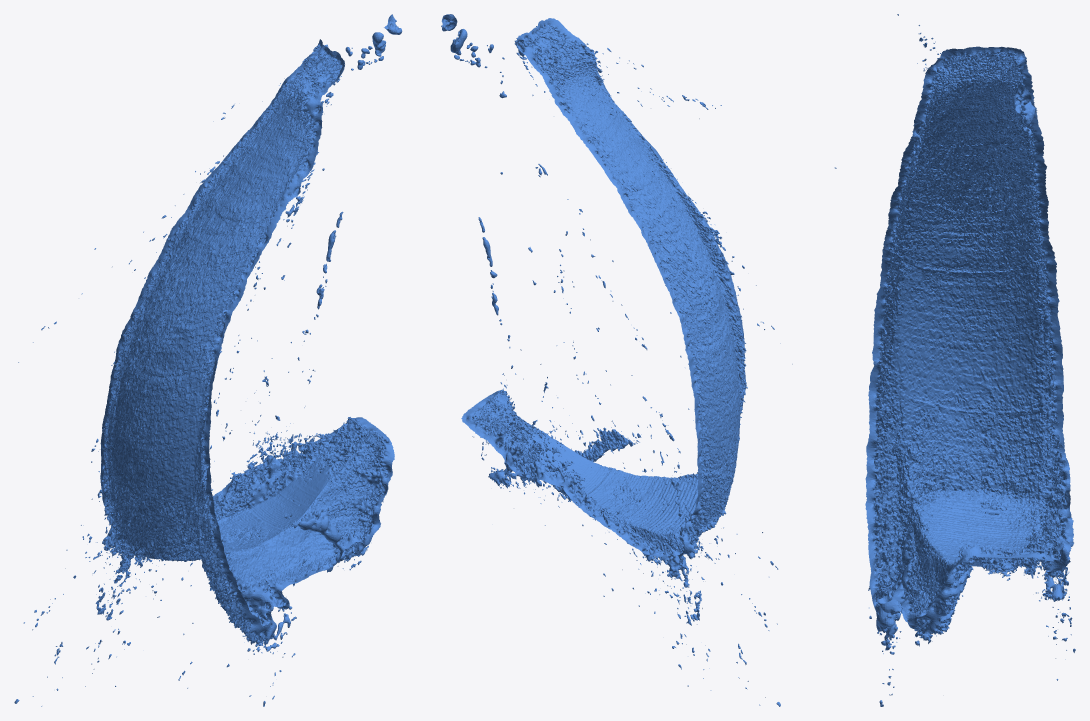
File: garaze.fbx
3 renders of one model, left to right at view 1: azimuth 30°, elevation 25°; view 2: azimuth 150°, elevation 25°; view 3: azimuth 270°, elevation 25°, orthographic. The views are drawn at different scales.
Parts seen in each view (by area): view 1: Model; view 2: Model; view 3: Model.
Part boxes in pixels (x1,y1,x2,y2): Model: (14,14,402,706); Model: (441,14,836,706); Model: (865,14,1075,706).
Size of the model in its own units: 220 by 88.86 by 351.
